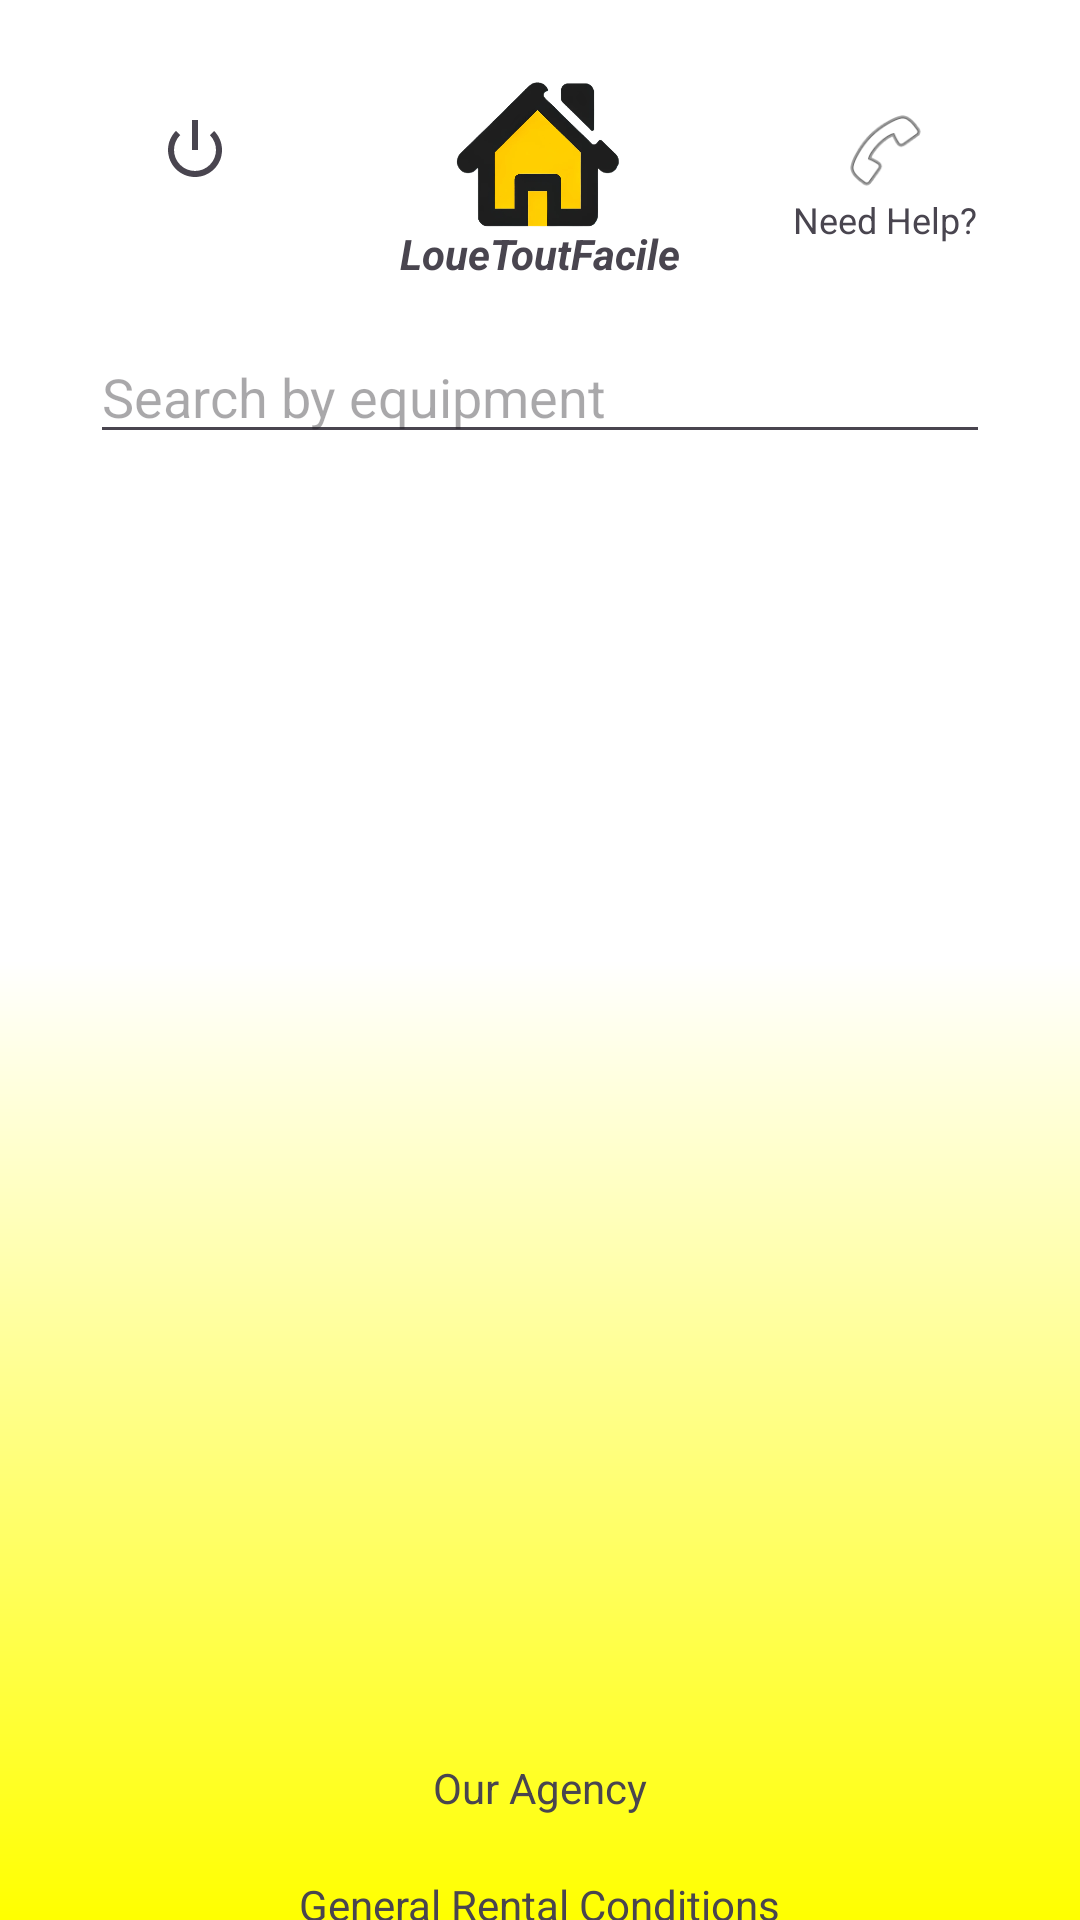

Locate icon controls on the screen. Image size 1080 x 1920, boxes as Rect(x1, y1, x2, y2).
Phone icon: Rect(850, 115, 921, 186)
